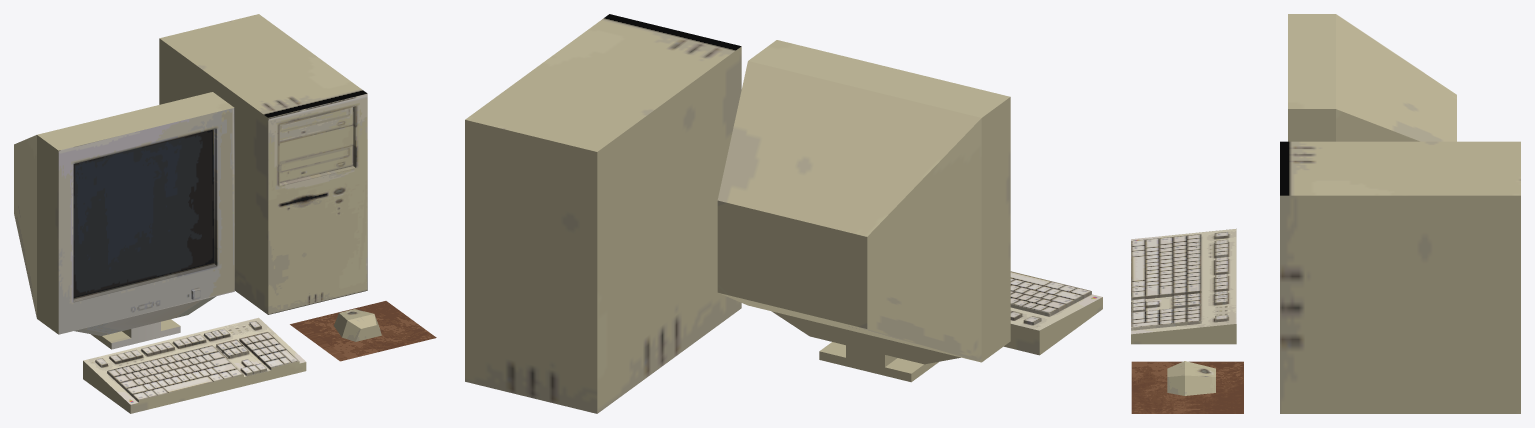
Rendered from OLDCOMPUTER.glb.
The picture shows the model from 3 angles, left to right: view 1: azimuth 30°, elevation 25°; view 2: azimuth 150°, elevation 25°; view 3: azimuth 270°, elevation 25°; orthographic projection. The views are drawn at different scales.
Visible parts, largest first — view 1: Cube.001, Cube, Cube.002, Plane, Cube.003; view 2: Cube, Cube.001, Cube.002; view 3: Cube, Cube.001, Cube.002, Plane, Cube.003.
Boxes of the visible parts, x1,y1,x2,y2 form: Cube.001: (14,92,234,349); Cube: (159,14,367,314); Cube.002: (83,317,306,413); Plane: (290,301,436,361); Cube.003: (334,309,381,341); Cube: (465,14,741,413); Cube.001: (717,40,1010,382); Cube.002: (1004,271,1102,355); Cube: (1280,141,1520,413); Cube.001: (1288,14,1456,141); Cube.002: (1131,228,1236,344); Plane: (1131,361,1243,413); Cube.003: (1167,361,1215,395).
Bounding box in the file's own units: 3.5 × 2.3 × 3.46.
2 materials, 2 textured.
